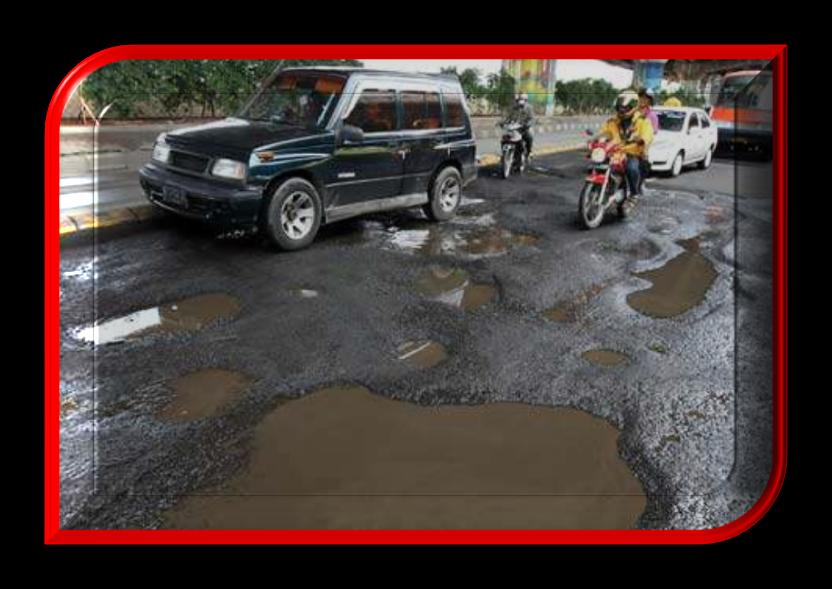Pothole: (119, 381, 717, 560), (604, 184, 743, 317), (71, 281, 273, 345), (369, 207, 572, 266), (401, 257, 532, 321), (139, 357, 254, 418), (574, 327, 671, 386), (382, 327, 469, 384), (526, 281, 581, 335), (289, 259, 340, 314)
